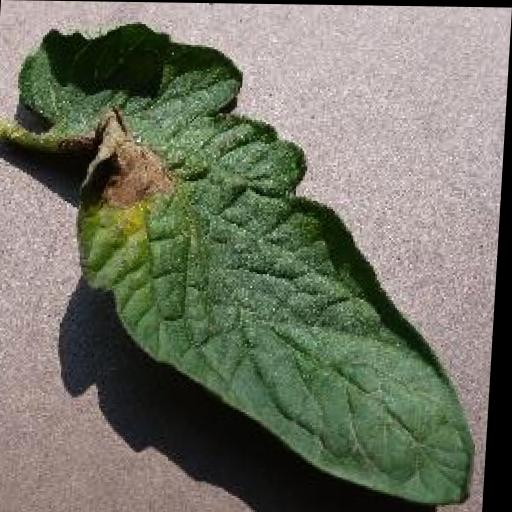Late Blight: (0, 21, 502, 504)
